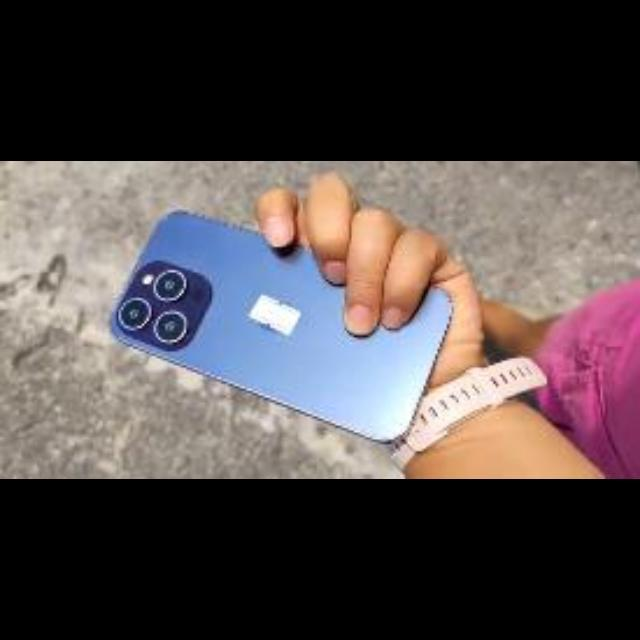Phone: (111, 210, 453, 442)
